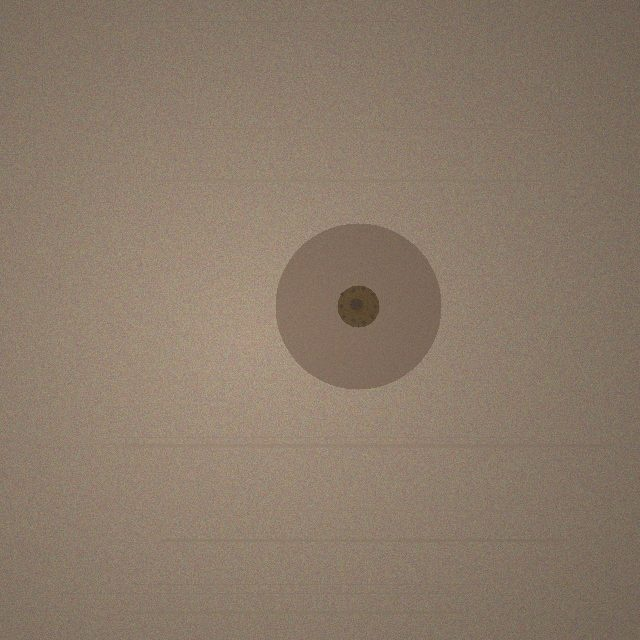cold_weld: (275, 223, 441, 389)
